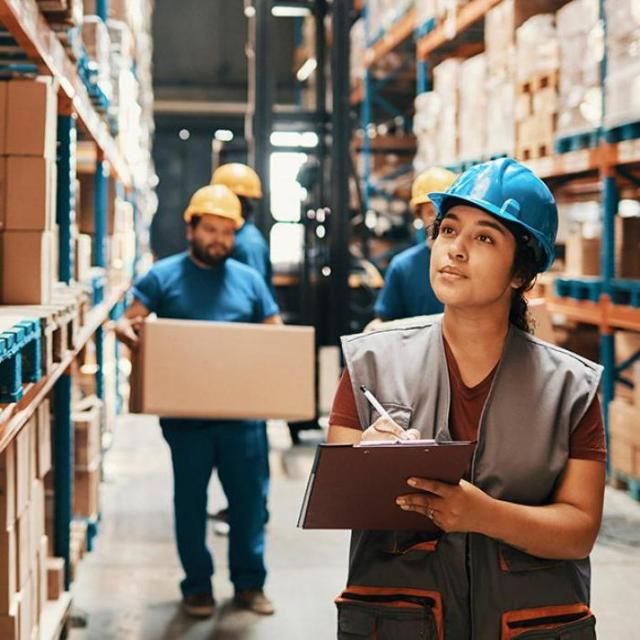Reflective-Jacket: (325, 316, 605, 639)
Safety-Helmet: (422, 151, 570, 265), (182, 181, 246, 224), (206, 160, 264, 203)
